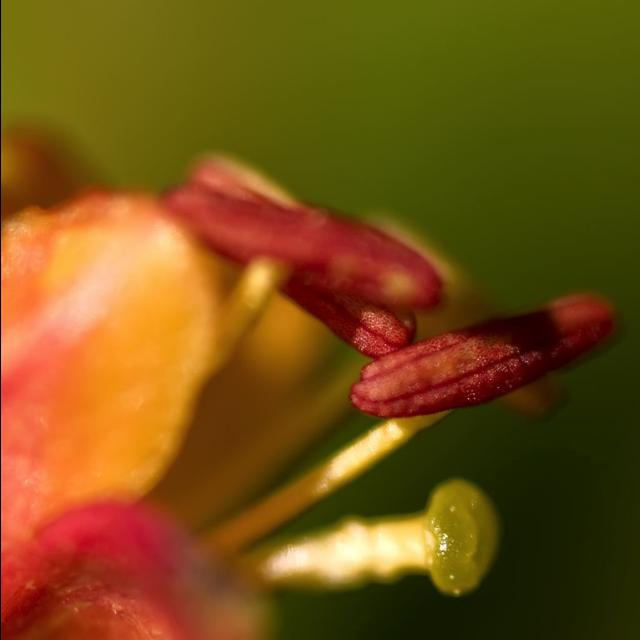Flower: (2, 115, 604, 590)
